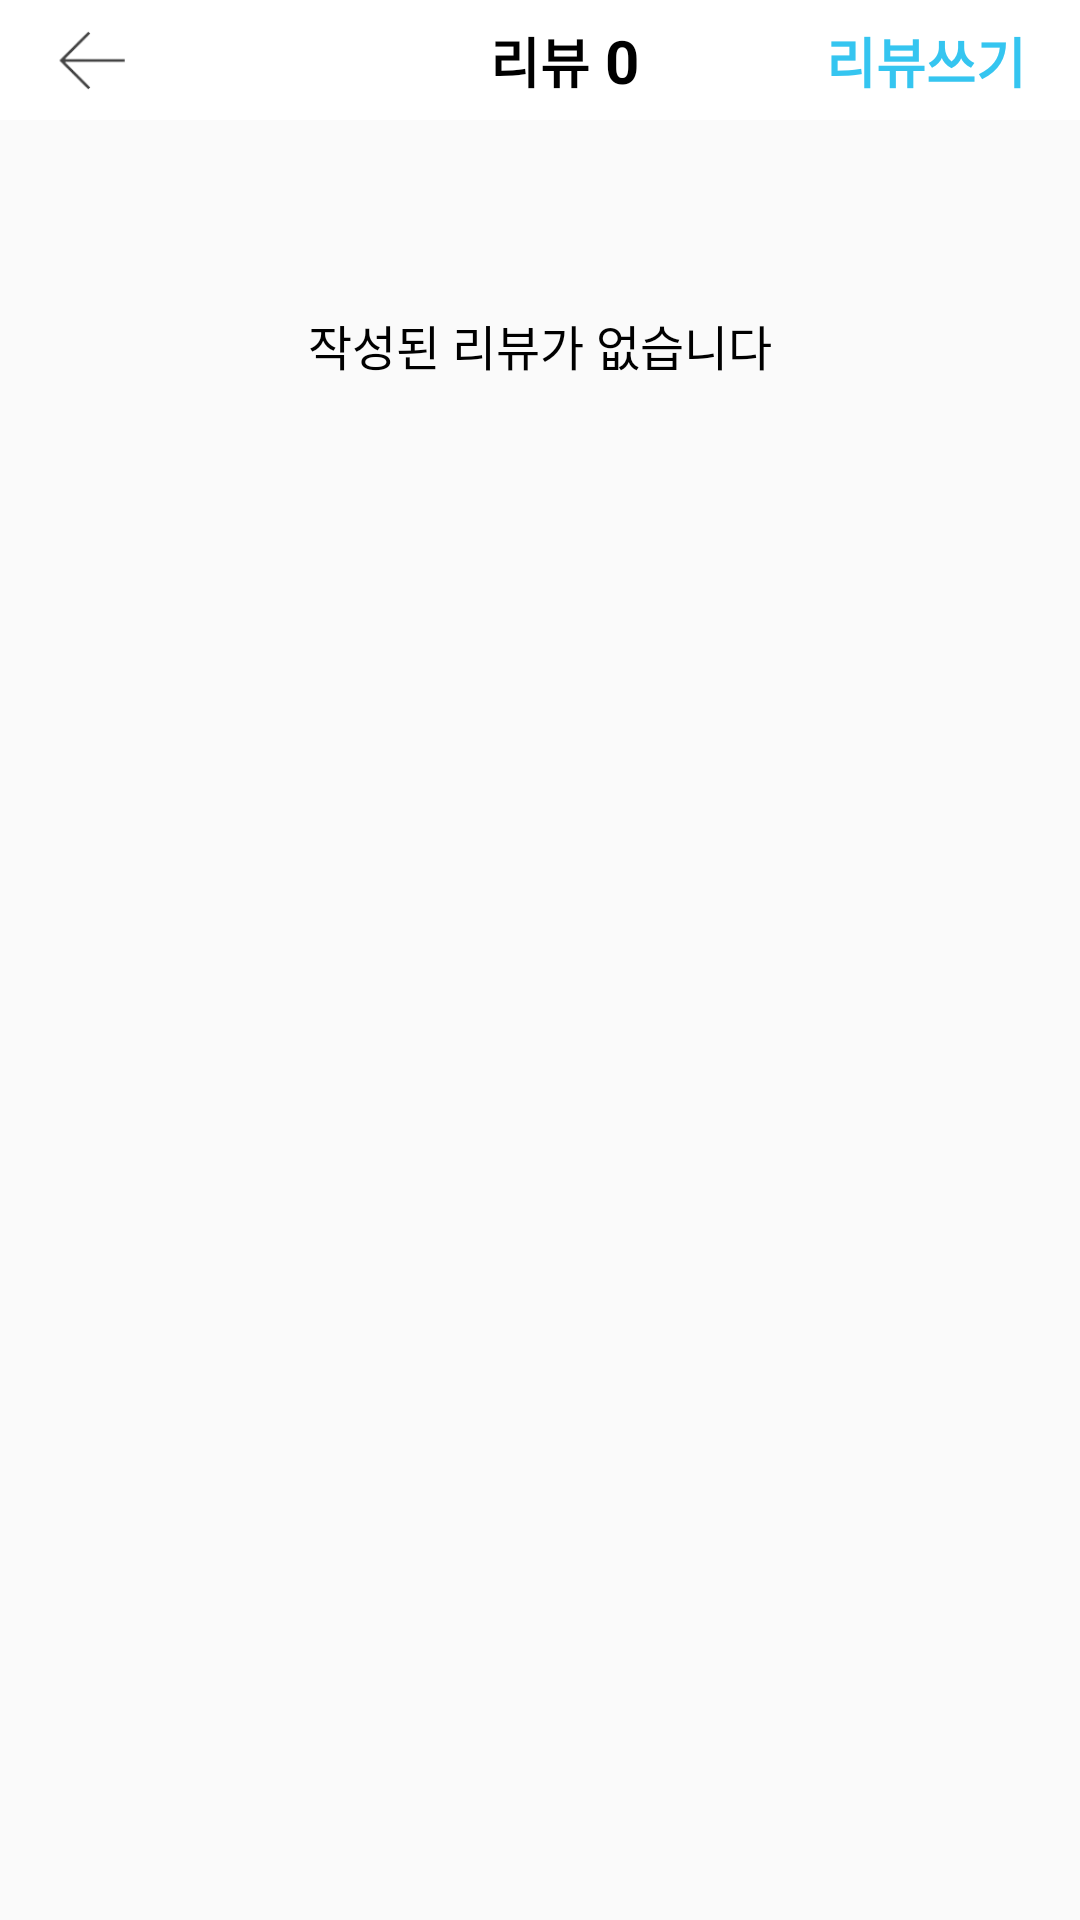

Point at icon controls on the screen. Image size 1080*1920, points as [x,y].
sign up back arrow: [92,60]
